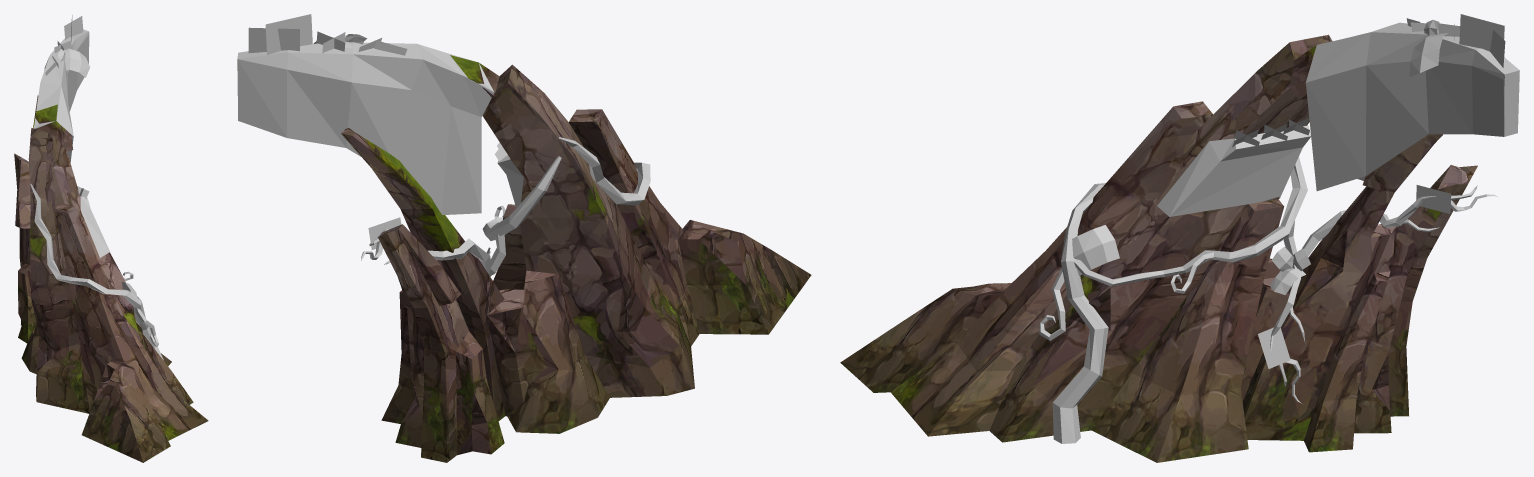
The model's file is LM_CenterPillar03e.FBX.
3 views of the same model, side by side, from view 1: azimuth 30°, elevation 25°; view 2: azimuth 150°, elevation 25°; view 3: azimuth 270°, elevation 25° (orthographic). The views are drawn at different scales.
Visible parts, largest first — view 1: LM_CenterPillar03e; view 2: LM_CenterPillar03e; view 3: LM_CenterPillar03e.
Part boxes in pixels (x1,y1,x2,y2): LM_CenterPillar03e: (14,15,208,462); LM_CenterPillar03e: (237,14,811,462); LM_CenterPillar03e: (840,14,1519,462).
Bounding box in the file's own units: 981 × 1525 × 2119.
